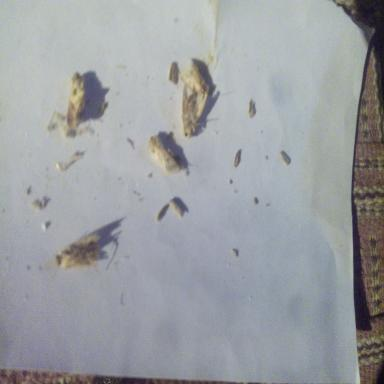abw: (52, 229, 108, 272), (60, 70, 90, 133), (178, 81, 210, 139), (144, 134, 185, 176), (180, 57, 212, 97)
